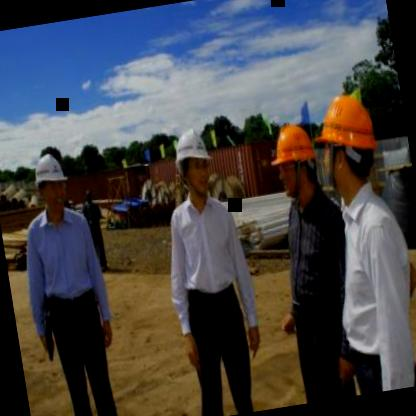helmet: (314, 90, 387, 202), (267, 117, 321, 205), (170, 120, 216, 203), (29, 142, 74, 219)
